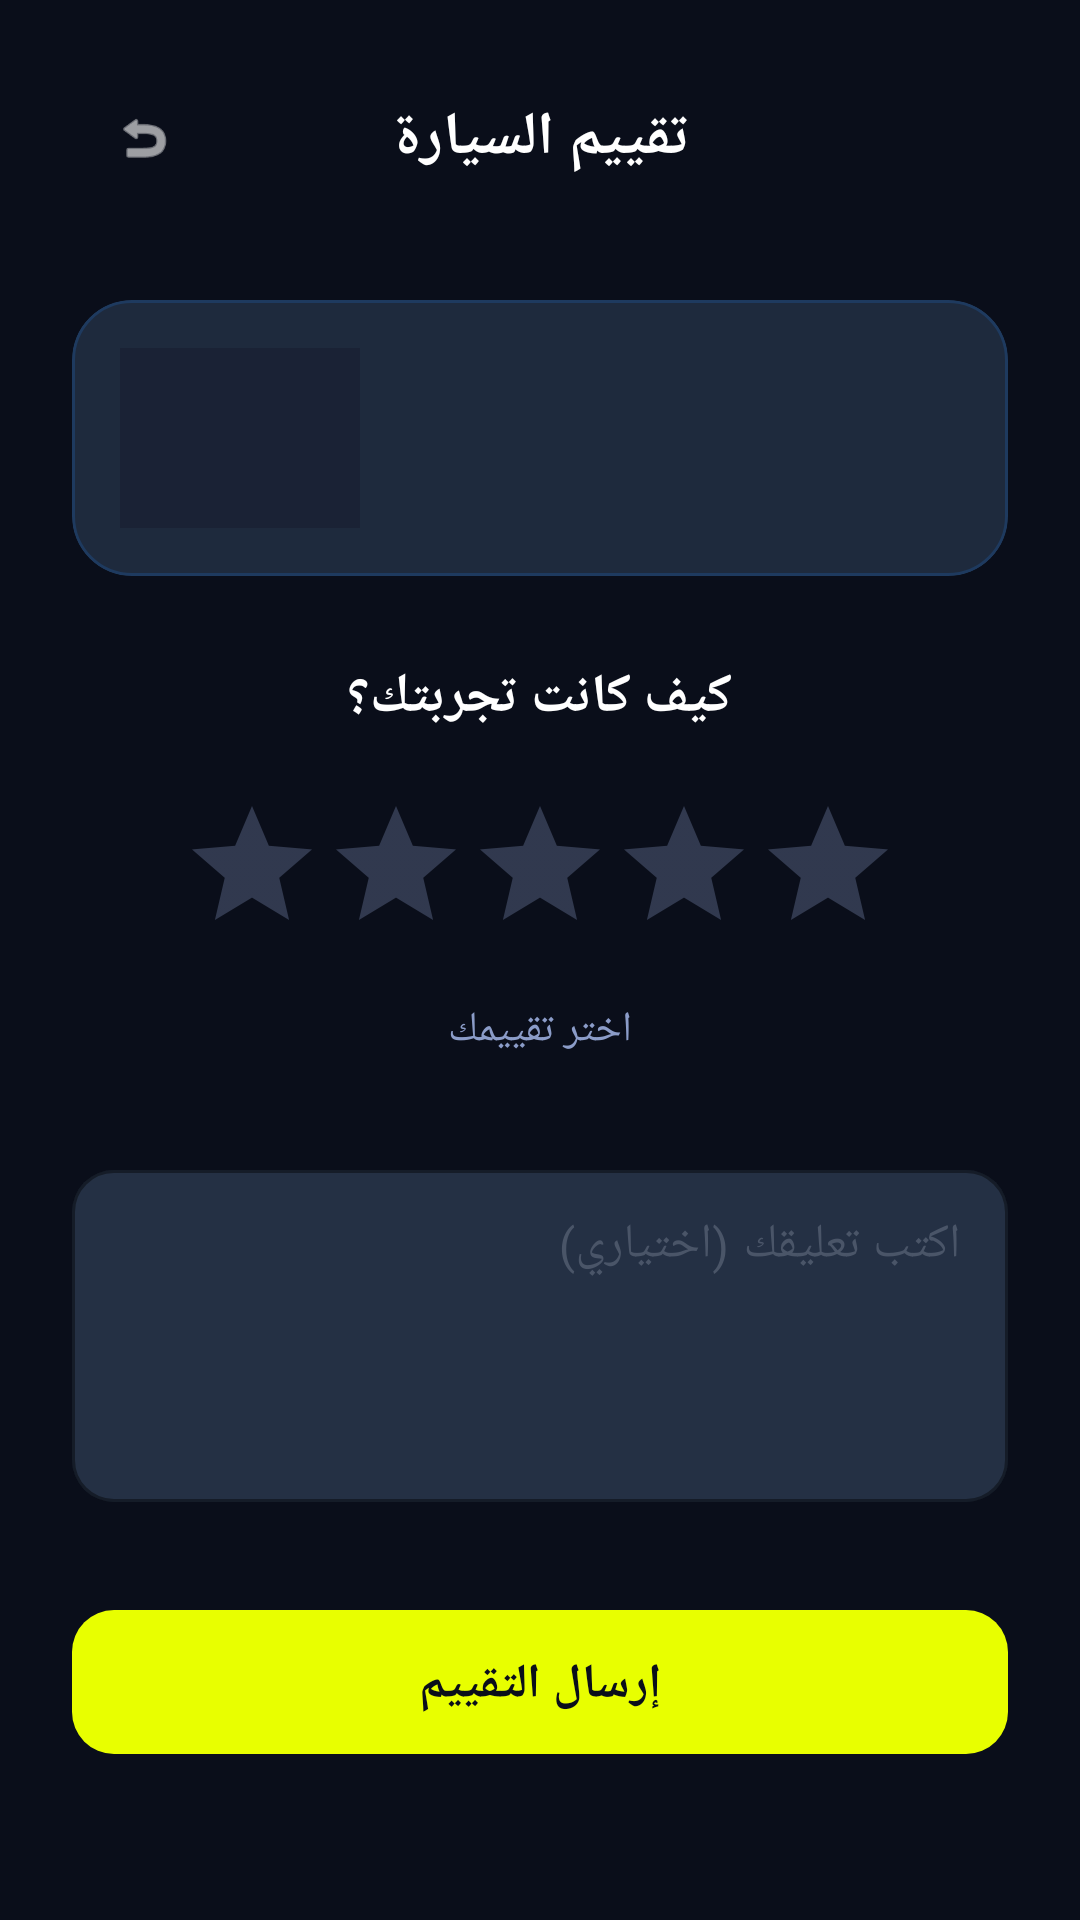

Named icons in this screenshot (1080*1920) and their bounding boxes, [x1=x1, y1=y1, x2=x2, y2=y2]:
revert: [x1=123, y1=119, x2=167, y2=158]
